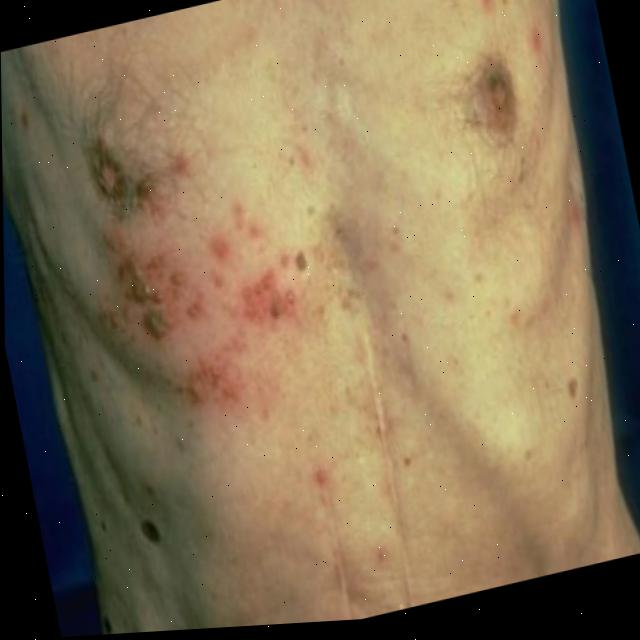Shingles: (96, 208, 312, 426)
